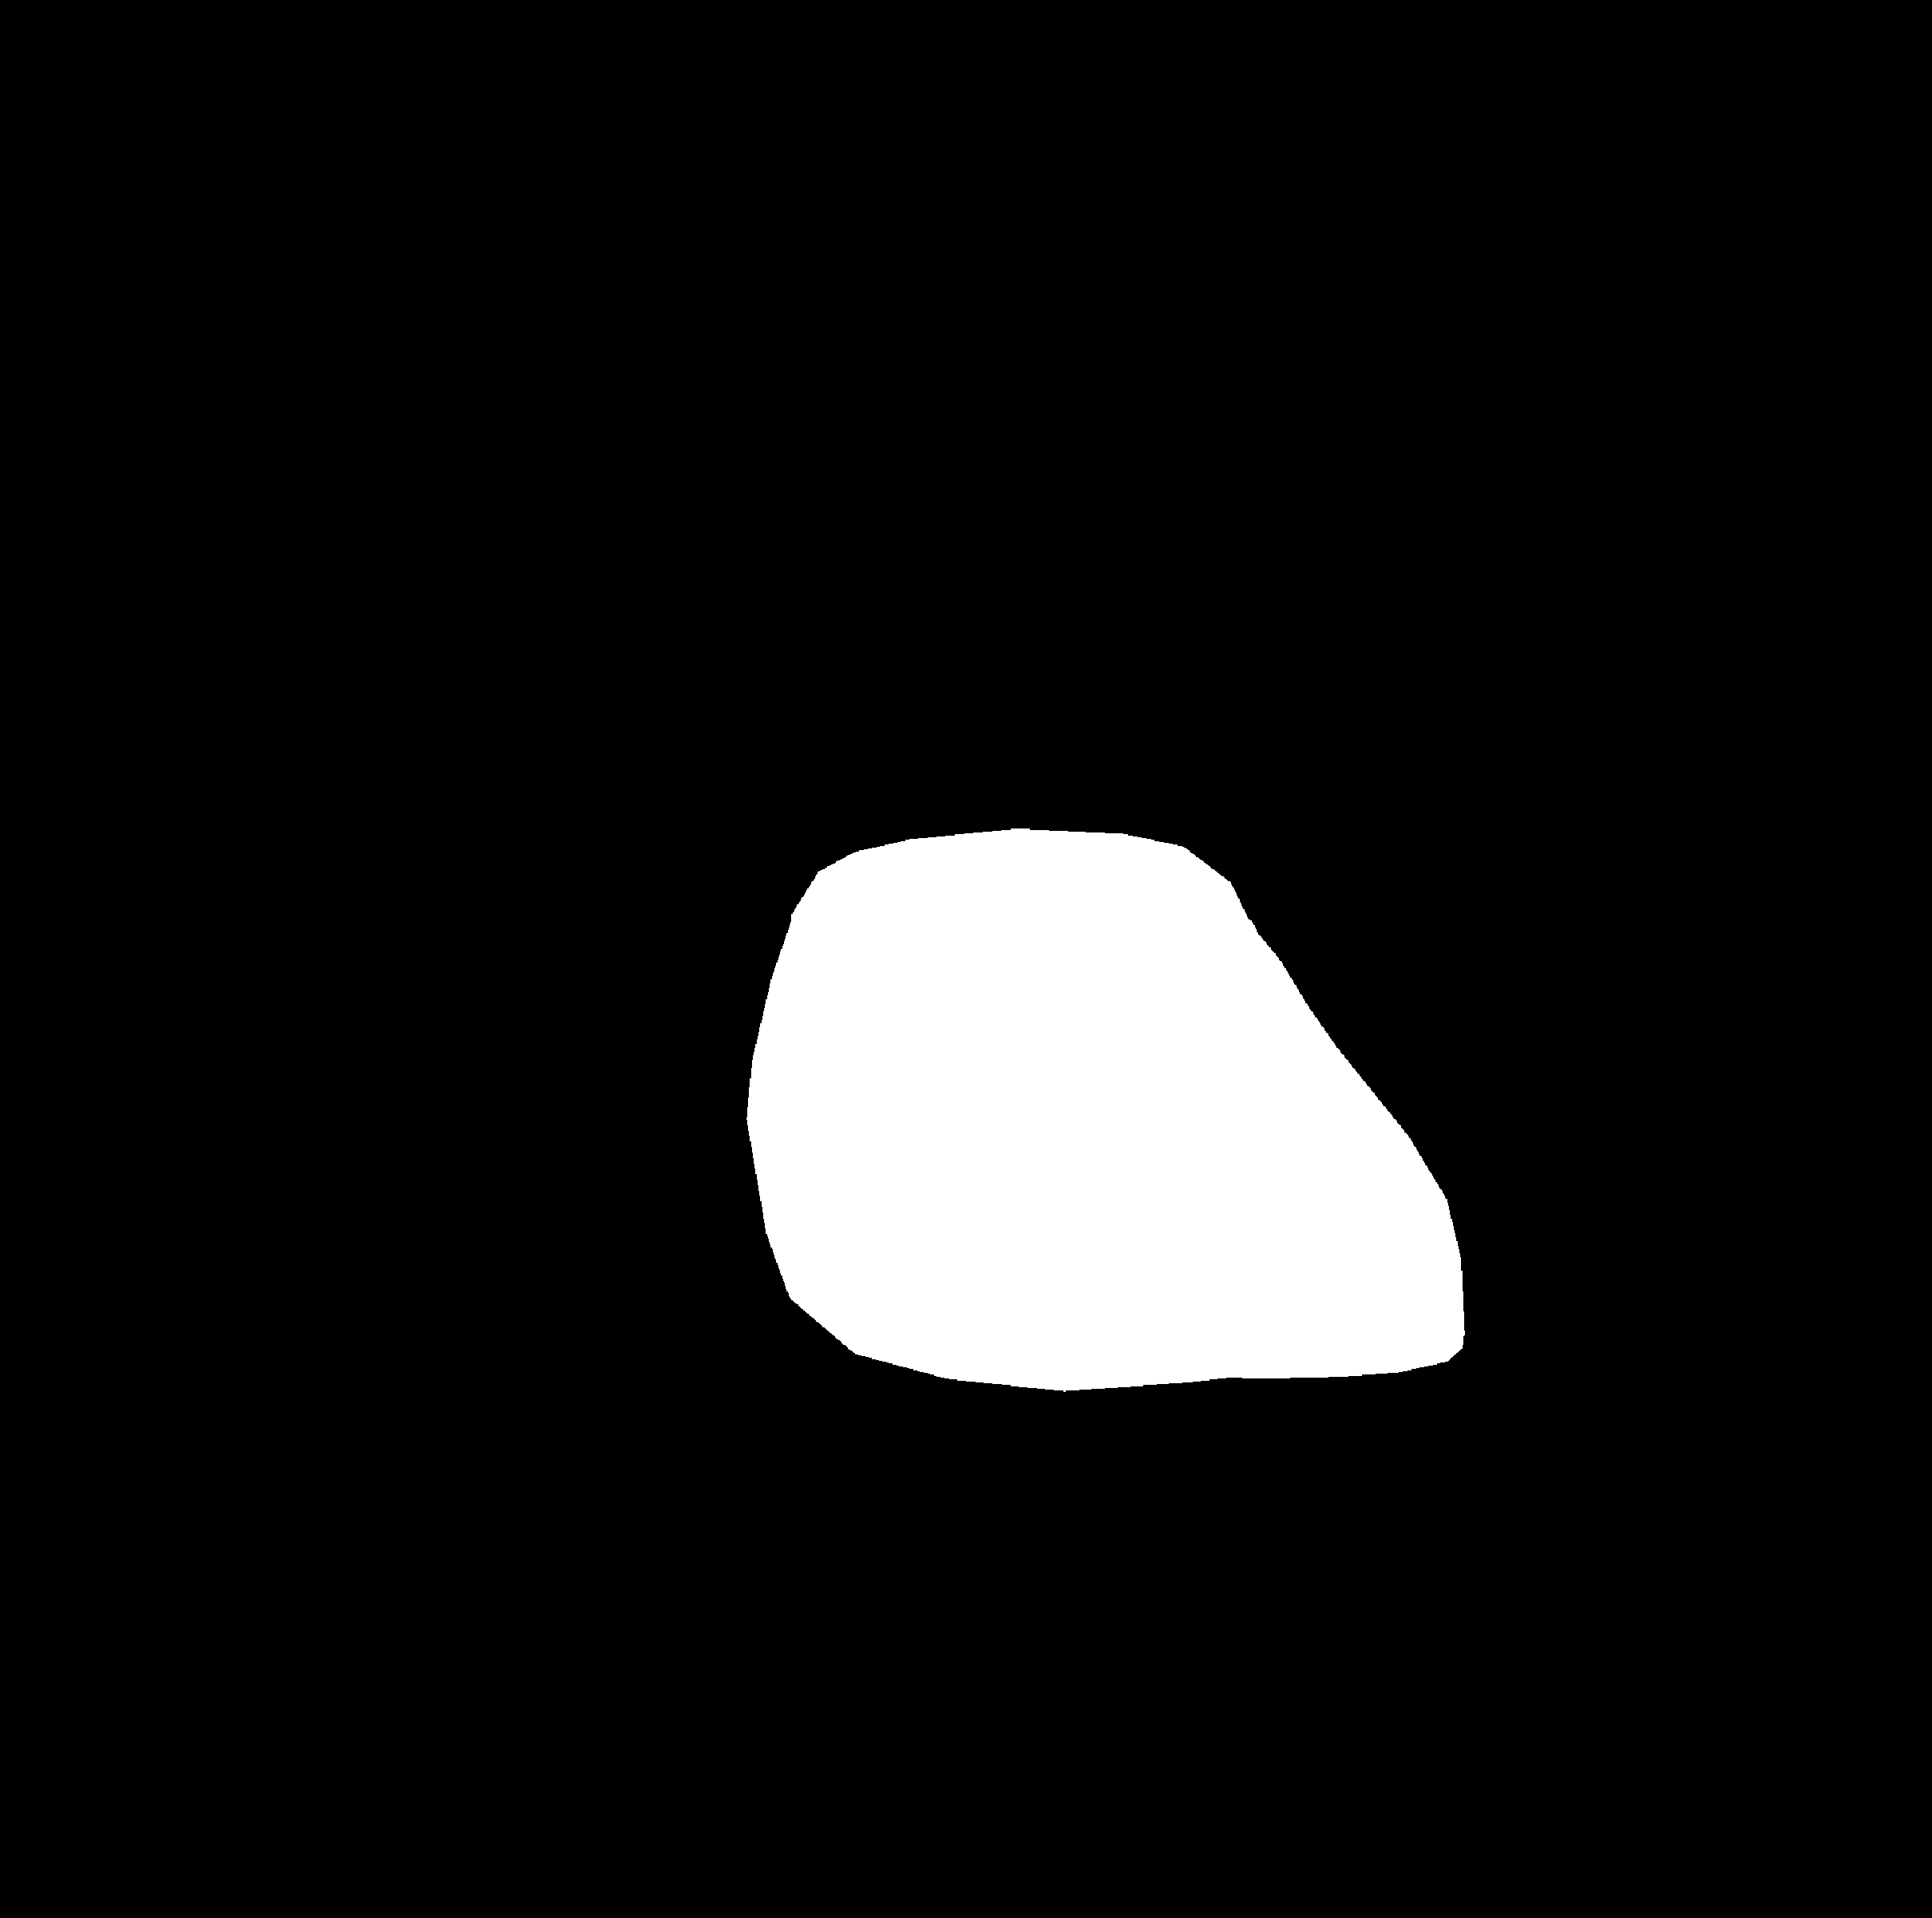heart: (746, 919, 1467, 1458)
left_lung: (186, 90, 876, 1716)
right_lung: (1012, 137, 1670, 1474)
